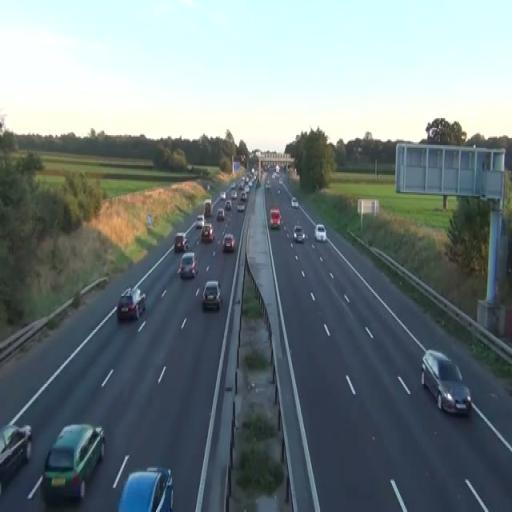Car: (42, 422, 106, 504), (420, 349, 472, 416), (117, 466, 174, 512), (0, 424, 34, 488), (117, 286, 146, 321), (202, 280, 222, 312), (178, 252, 198, 278), (200, 223, 215, 243), (174, 233, 188, 253), (222, 234, 236, 252), (315, 224, 327, 242), (294, 225, 306, 243)
